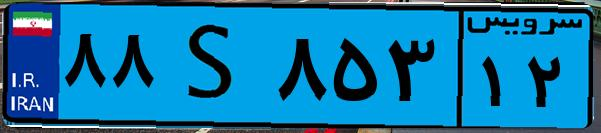1: (475, 38, 525, 113)
2: (525, 38, 570, 115)
3: (385, 28, 445, 110)
5: (330, 28, 385, 110)
8: (270, 28, 330, 110), (57, 26, 110, 100), (110, 28, 158, 98)
S: (158, 12, 270, 120)
